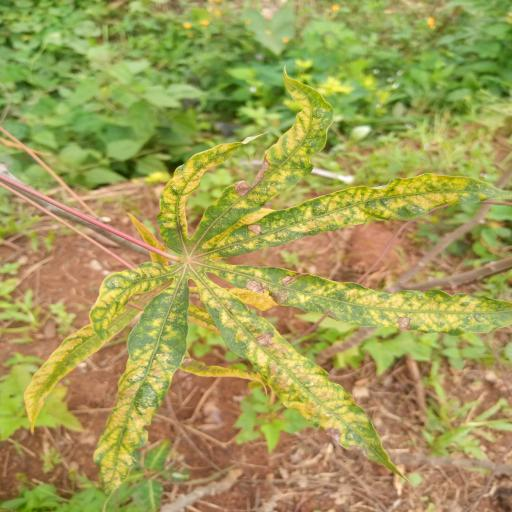Cassava_Mosaic: (29, 69, 501, 492)
